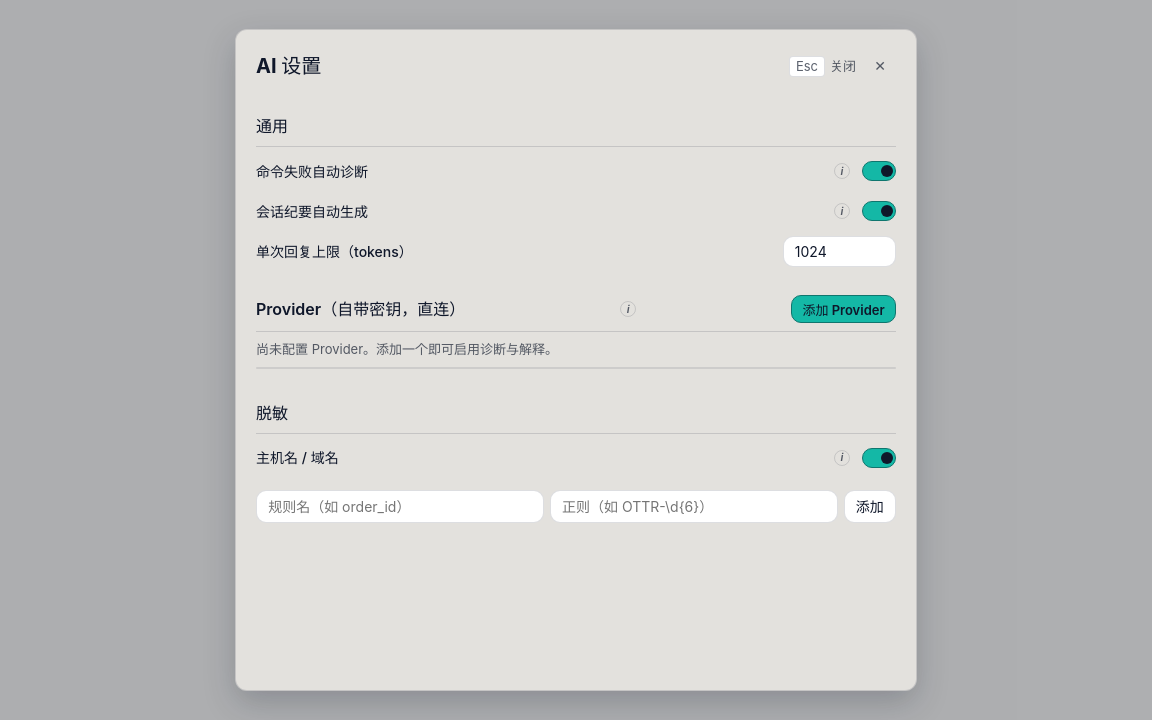
脱敏配置 › 非法正则：显式报错不落库
This screenshot has width=1152, height=720.
In the field with test id "ai-rule-name": (400, 506) [256,490,544,523], type "bad"
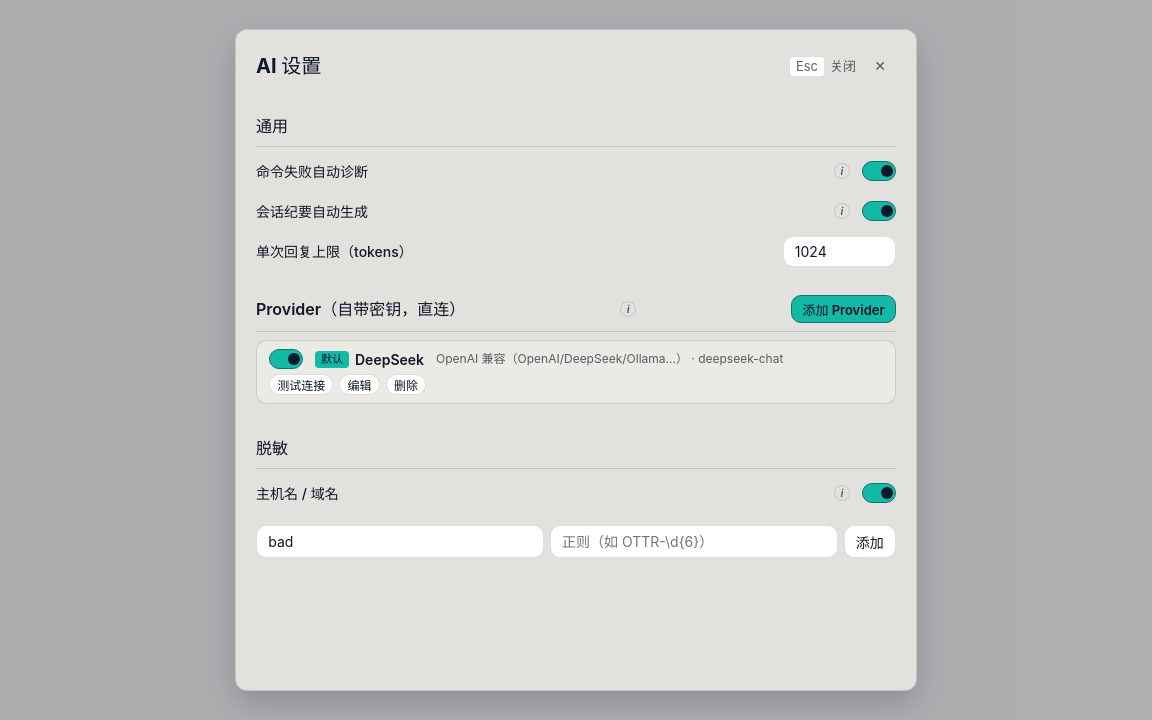
In the field with test id "ai-rule-pattern": (694, 542) [550,525,838,558], type "([unclosed"
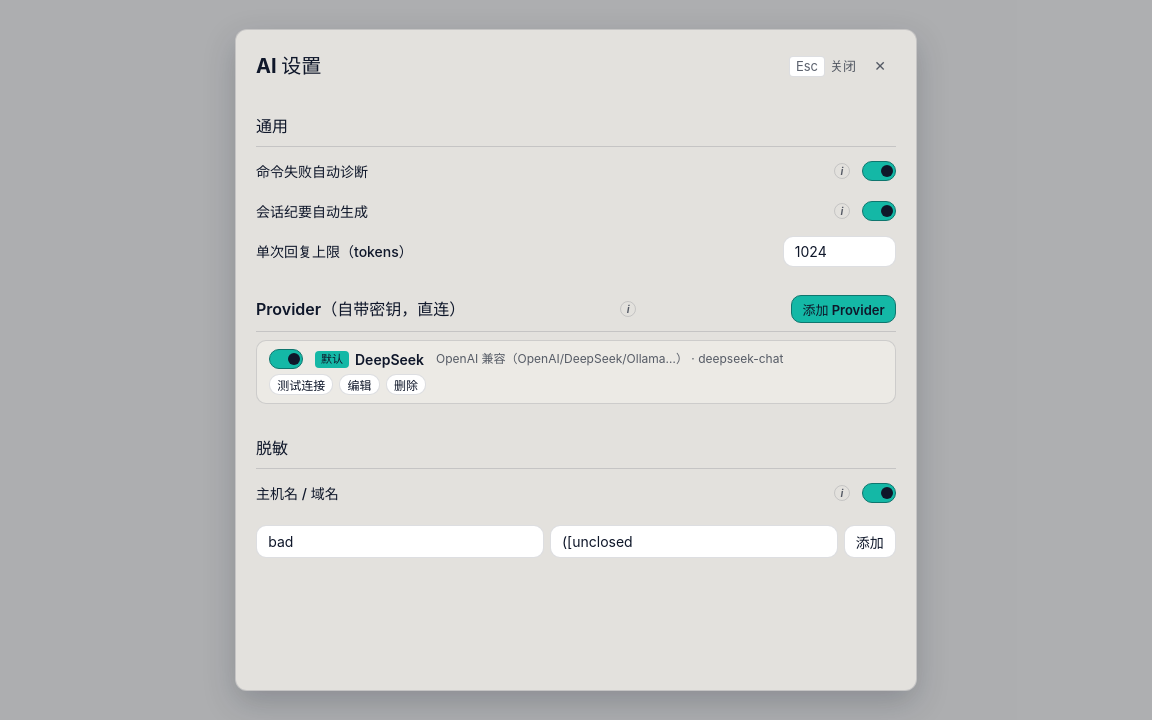
Click the button with test id "ai-rule-add" showing "添加": (870, 542) [844,525,896,558]
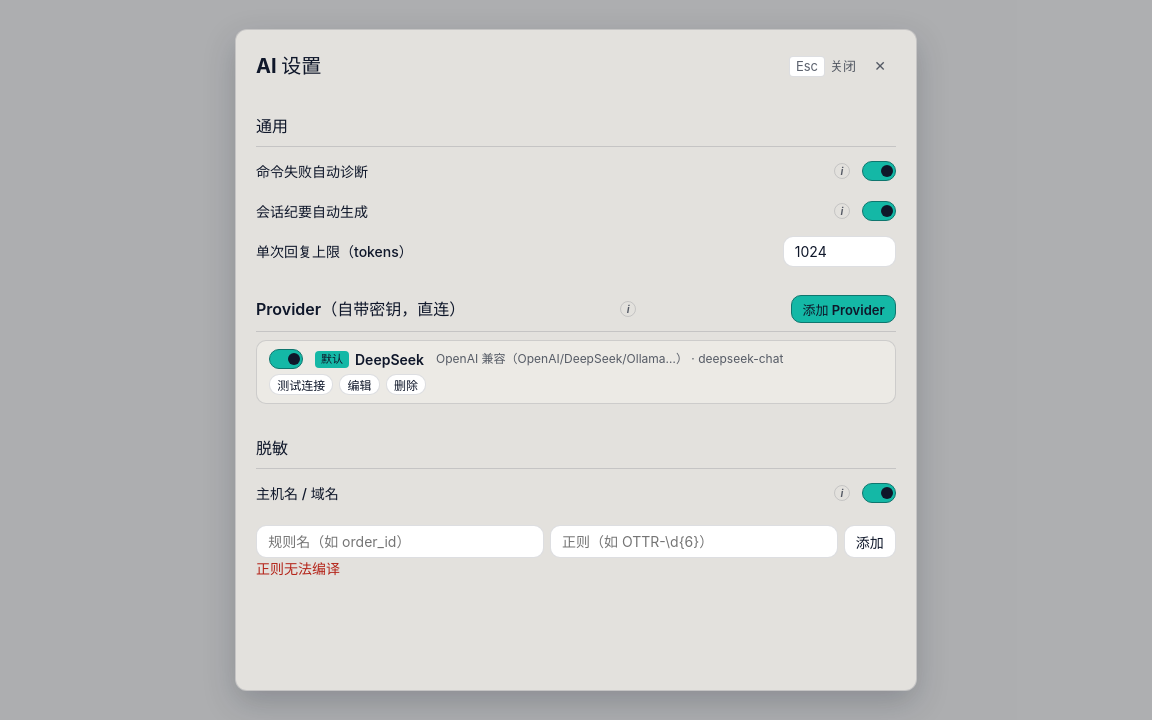
Expected: the text "正则无法编译" is shown, [256,560,340,578]
